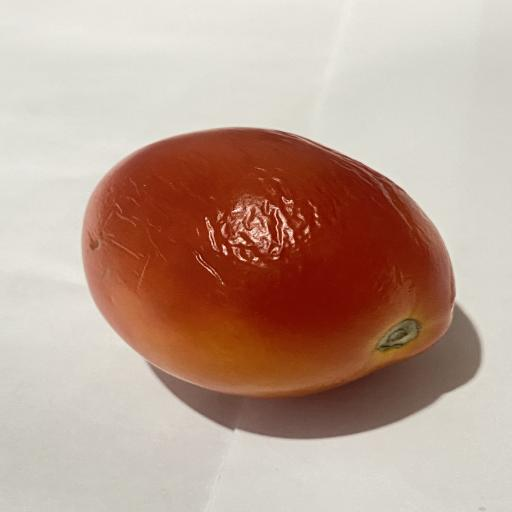spoiled: (82, 128, 455, 397), (205, 195, 295, 262)
